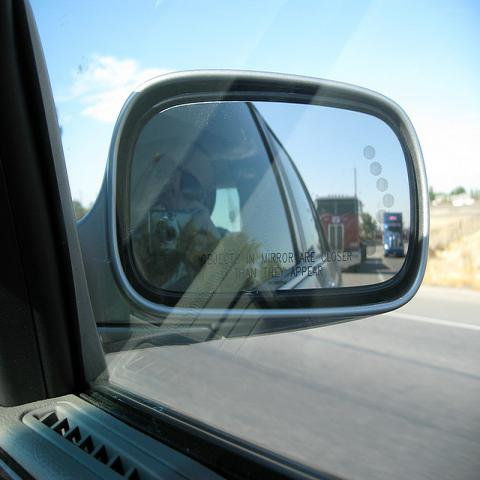truck: (315, 169, 369, 272), (384, 214, 404, 257)
